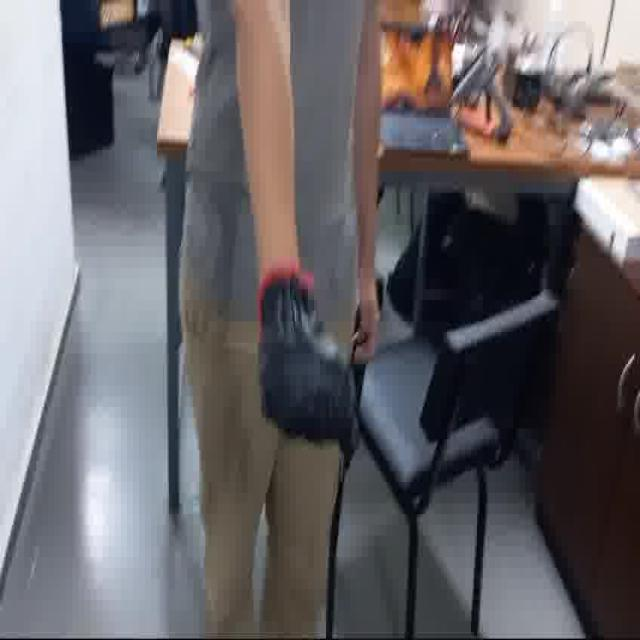Gloves: (253, 270, 368, 462)
